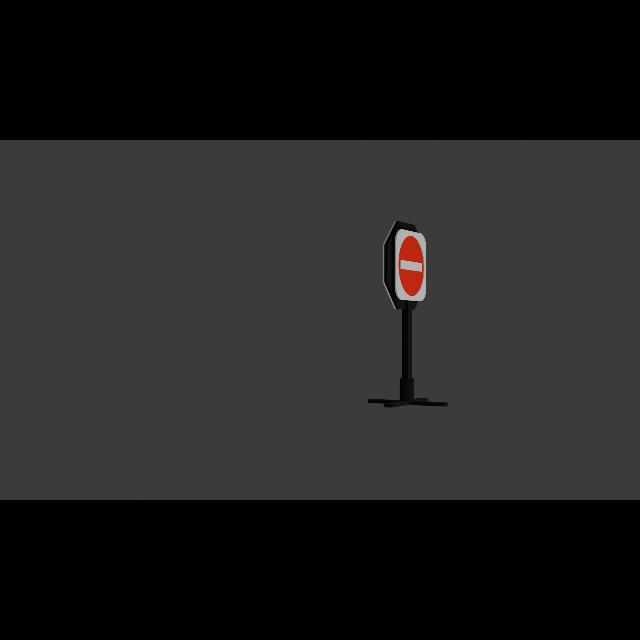sign_noentry: (396, 234, 426, 301)
